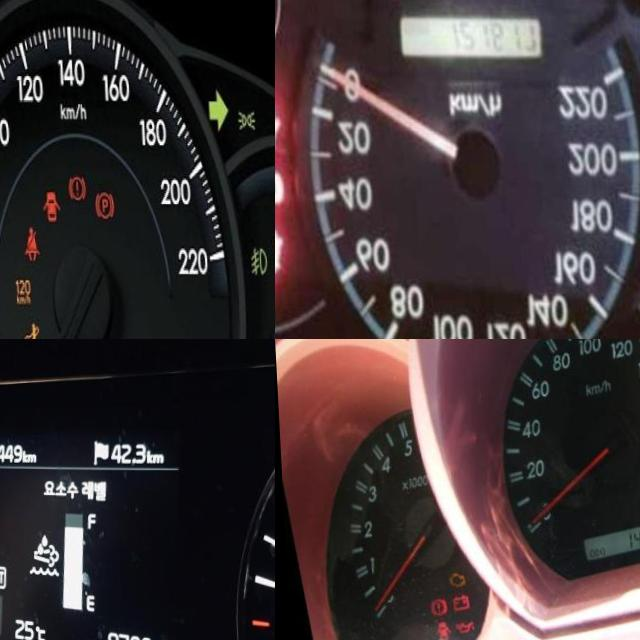Seat Belt: (21, 227, 37, 262), (275, 226, 282, 276)
